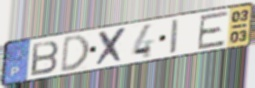4: (129, 23, 156, 60)
B: (30, 39, 61, 78)
D: (59, 33, 91, 75)
E: (196, 10, 230, 52)
I: (170, 17, 181, 56)
X: (95, 26, 129, 68)
